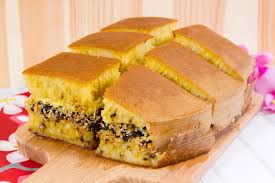Martabak manis: (105, 60, 206, 173), (141, 40, 249, 134), (24, 46, 104, 157), (173, 15, 260, 86), (72, 27, 148, 64), (106, 8, 177, 41)
